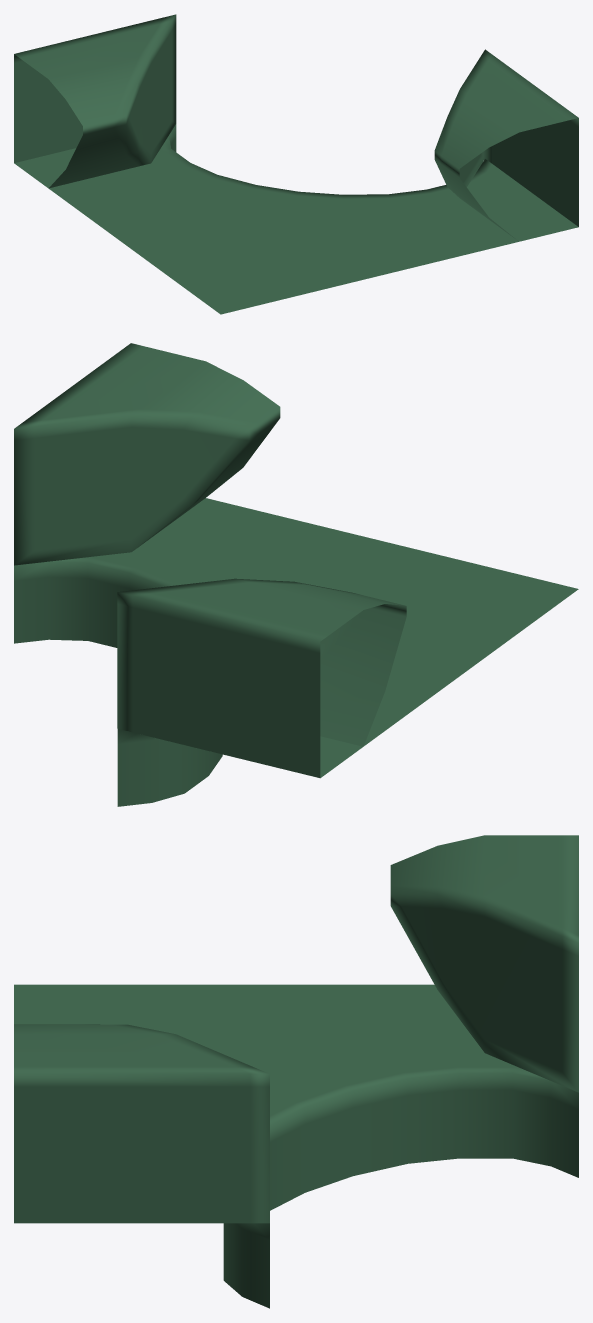
The model's file is table_pocket_concave_a.fbx.
3 renders of one model, top to bottom at view 1: azimuth 30°, elevation 25°; view 2: azimuth 150°, elevation 25°; view 3: azimuth 270°, elevation 25°, orthographic. The views are drawn at different scales.
Parts seen in each view (by area): view 1: lod0; view 2: lod0; view 3: lod0.
Part boxes in pixels (x1,y1,x2,y2): lod0: [14, 14, 578, 314]; lod0: [14, 343, 578, 806]; lod0: [14, 835, 578, 1308].
Bounding box in the file's own units: 6 × 2.75 × 6.
